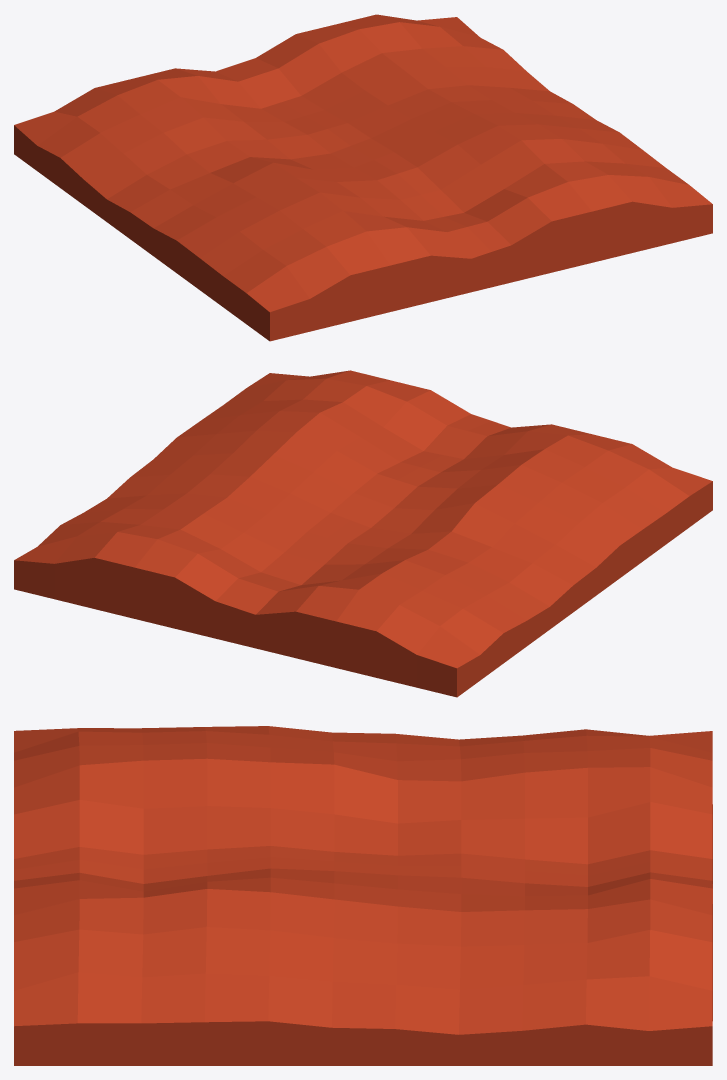
The model's file is omgeploegde grond color1.fbx.
3 renders of one model, top to bottom at view 1: azimuth 30°, elevation 25°; view 2: azimuth 150°, elevation 25°; view 3: azimuth 270°, elevation 25°, orthographic. The views are drawn at different scales.
Parts seen in each view (by area): view 1: untilted ground; view 2: untilted ground; view 3: untilted ground.
Part boxes in pixels (x1,y1,x2,y2): untilted ground: [14, 14, 712, 341]; untilted ground: [14, 370, 712, 697]; untilted ground: [14, 726, 712, 1065].
Size of the model in its own units: 2 by 0.305 by 2.
